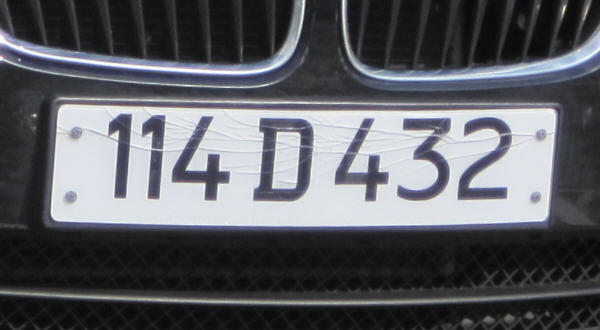license_plate: (50, 106, 557, 224)
